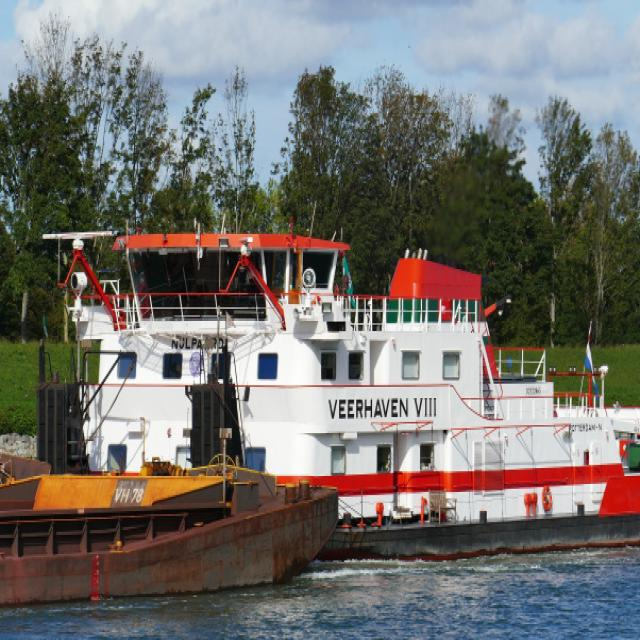tugboat: (26, 206, 640, 572)
